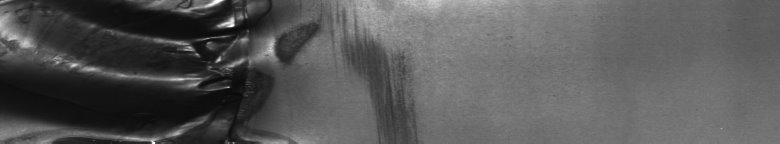ke: (4, 4, 319, 136)
